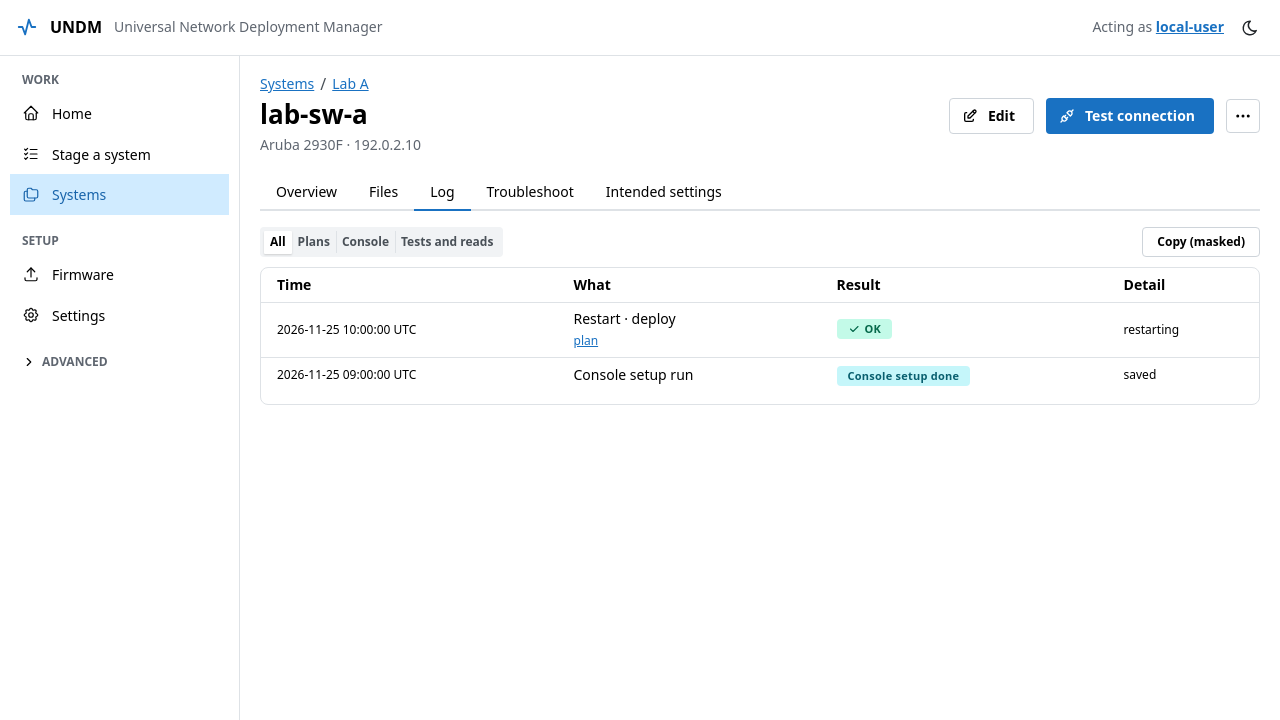
it: device menu, tree and watch (D-099) › the device log lists entries and filters them
The image size is (1280, 720).
Check: the text "restarting" is shown, box [1124,321,1179,338]
Check: the text "saved" is shown, box [1124,366,1156,383]
Click the text "Console": (365, 241) [342,233,389,250]
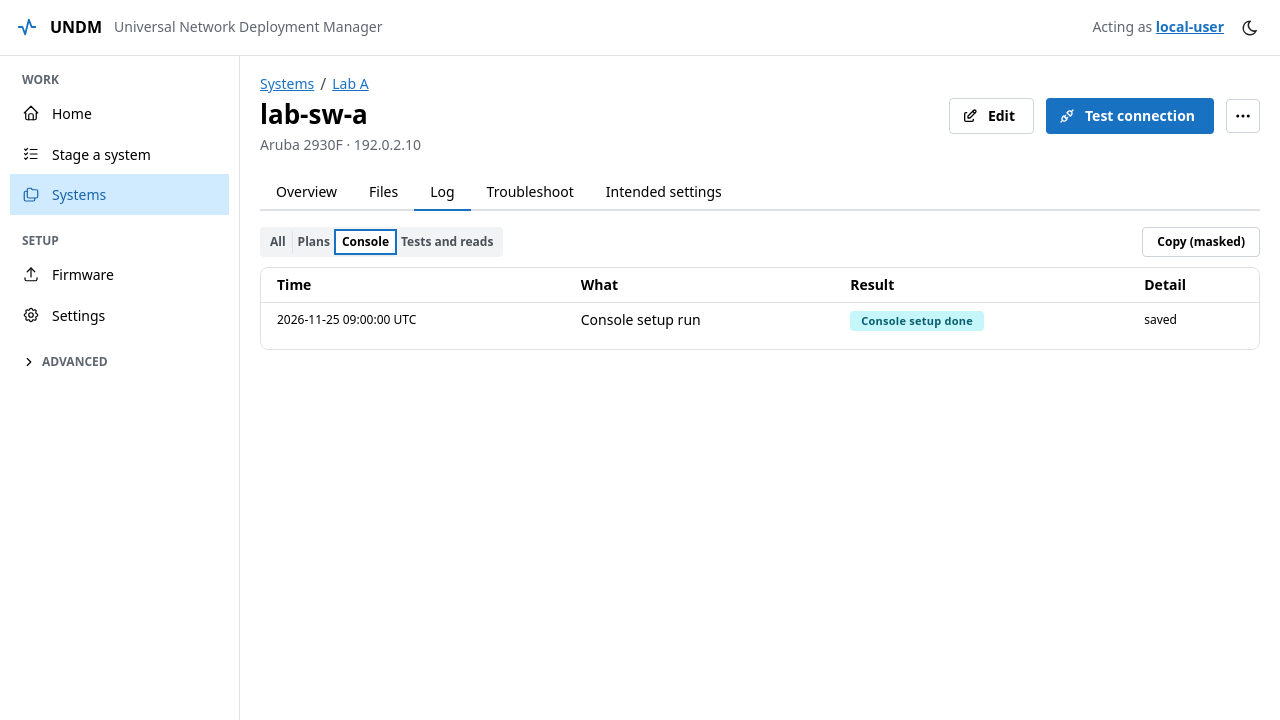
Check: the text "saved" is shown, box [1144,311,1177,328]
Check: the text "restarting" is gone
